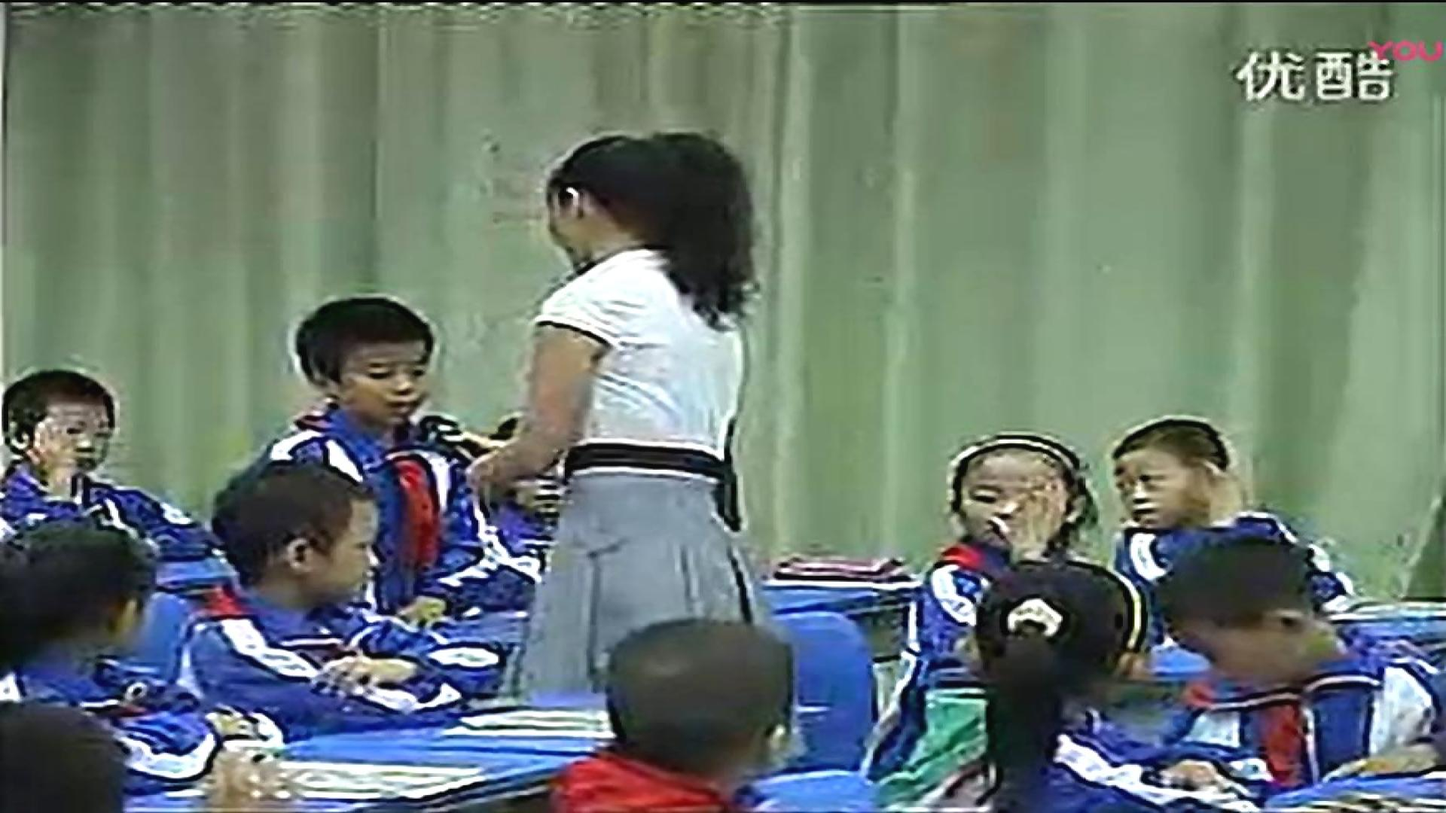Look Around: (615, 611, 792, 759), (1165, 535, 1329, 684), (981, 559, 1135, 702), (2, 515, 176, 638), (1100, 404, 1244, 531), (948, 419, 1075, 542)
Stand Up: (526, 116, 763, 625), (339, 294, 474, 597)
Wave: (31, 416, 91, 508)
